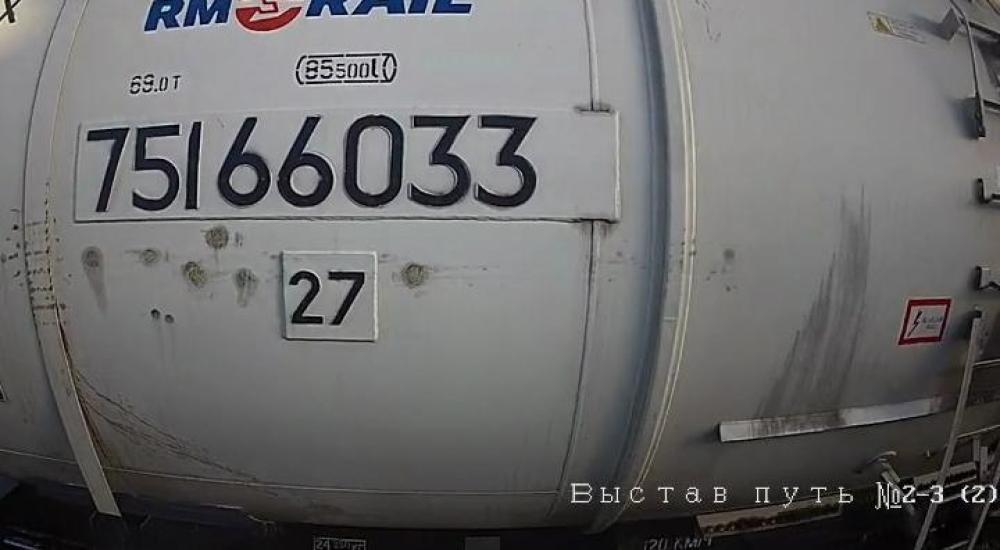Wagon-number: (81, 109, 544, 221)
